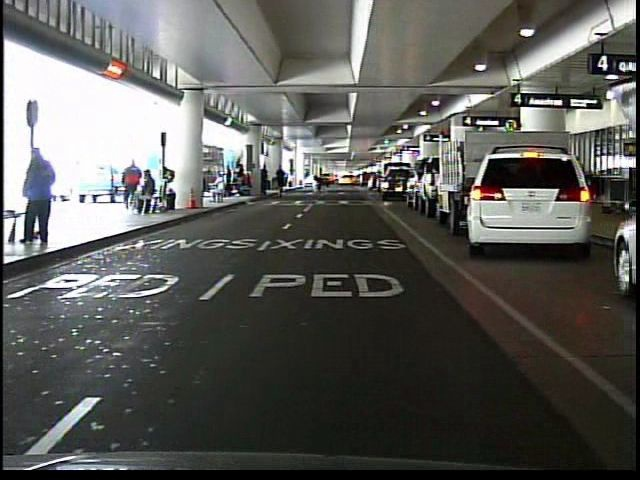person: (19, 144, 65, 253), (209, 171, 230, 206), (312, 165, 327, 195)
